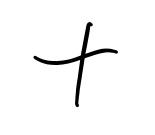plus: (29, 20, 118, 110)
